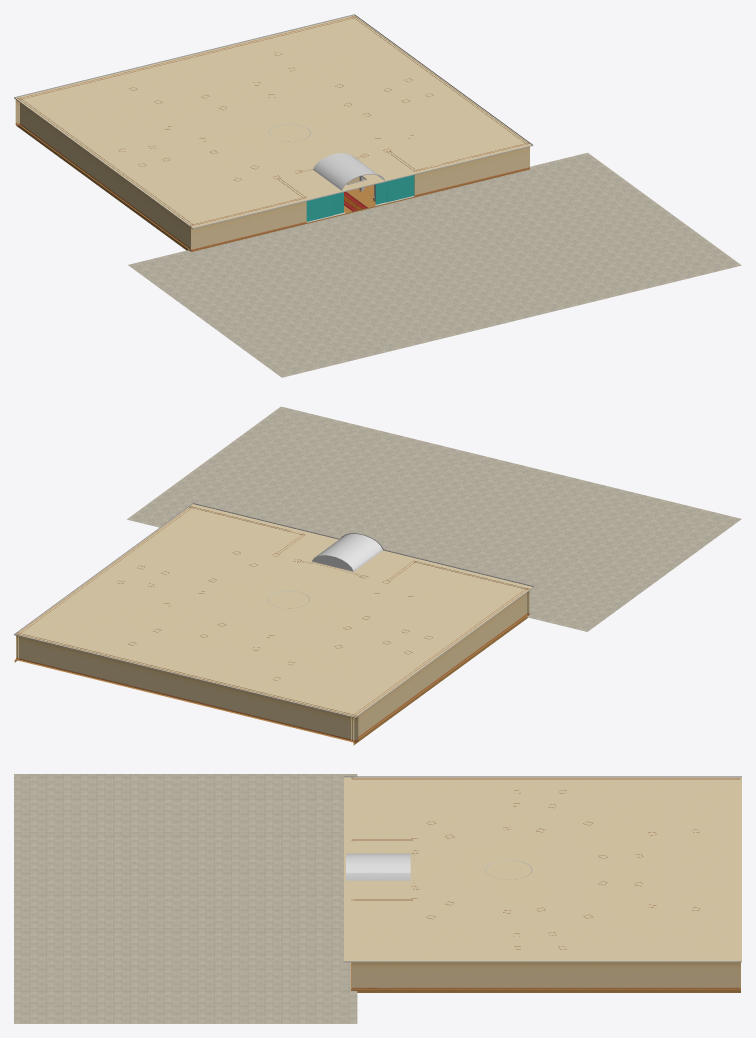
Rendered from Gallery.fbx.
3 renders of one model, top to bottom at view 1: azimuth 30°, elevation 25°; view 2: azimuth 150°, elevation 25°; view 3: azimuth 270°, elevation 25°, orthographic. The views are drawn at different scales.
Parts seen in each view (by area): view 1: floor, Top, Wall, Floor, Obj_all; view 2: Top, floor, Wall, Floor; view 3: floor, Top, Wall, Floor.
Part boxes in pixels (x1,y1,x2,y2): floor: (128, 152, 741, 377); Top: (14, 14, 533, 228); Wall: (15, 16, 529, 251); Floor: (16, 124, 529, 251); Obj_all: (306, 175, 414, 221); Top: (14, 503, 534, 718); floor: (127, 406, 741, 631); Wall: (16, 506, 529, 742); Floor: (14, 614, 528, 745); floor: (14, 774, 357, 1023); Top: (344, 776, 741, 962); Wall: (351, 777, 740, 989); Floor: (351, 962, 740, 992).
Bounding box in the file's own units: 10915 × 895 × 13435.
